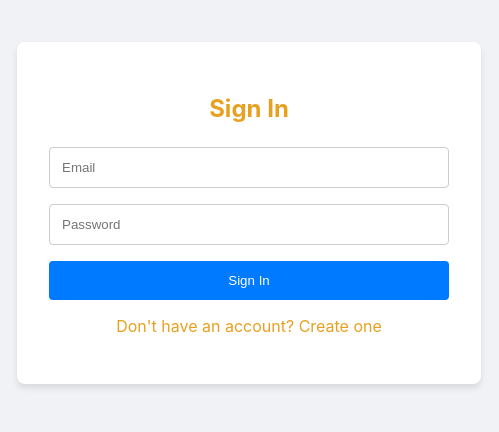
Test: Login Component › shows error message on Sign In failure
The width and height of the screenshot is (499, 432).
Type "test@example.com" into the field labelled "Email" at point(249, 168), box x1=49 y1=147 x2=449 y2=188
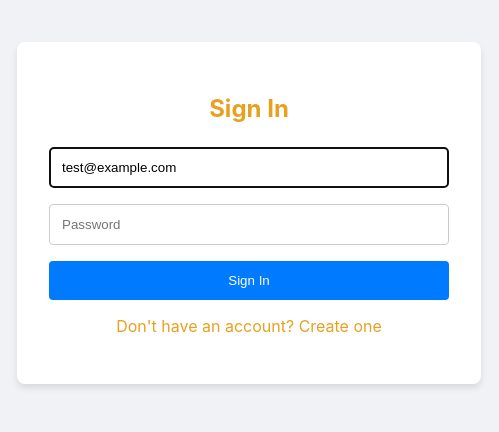
Type "wrongpassword" into the password field labelled "Password" at point(249, 224), box x1=49 y1=204 x2=449 y2=245
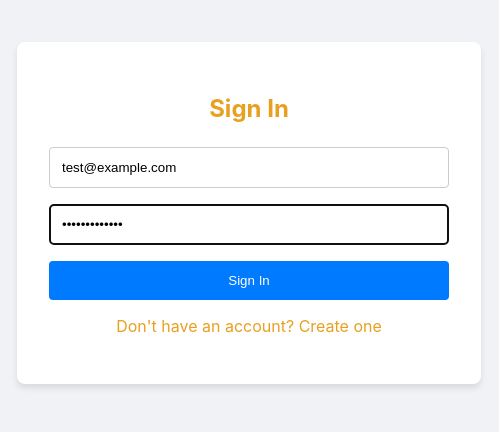
Submit the form with test id "signin-form", box x1=49 y1=74 x2=449 y2=352
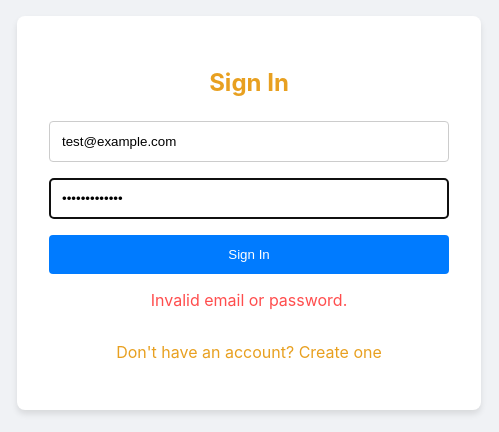
Expected: the text "Invalid email or password." is shown, x1=151 y1=290 x2=347 y2=310
